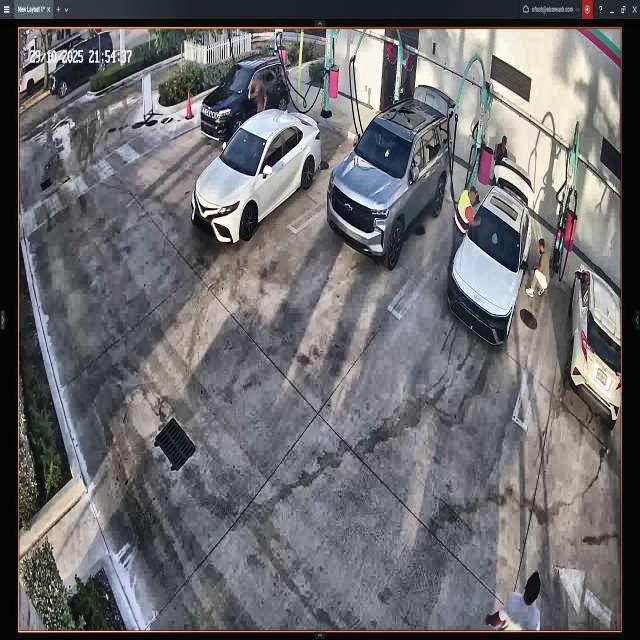Car: (328, 88, 451, 268), (190, 104, 322, 244), (449, 163, 533, 344)
